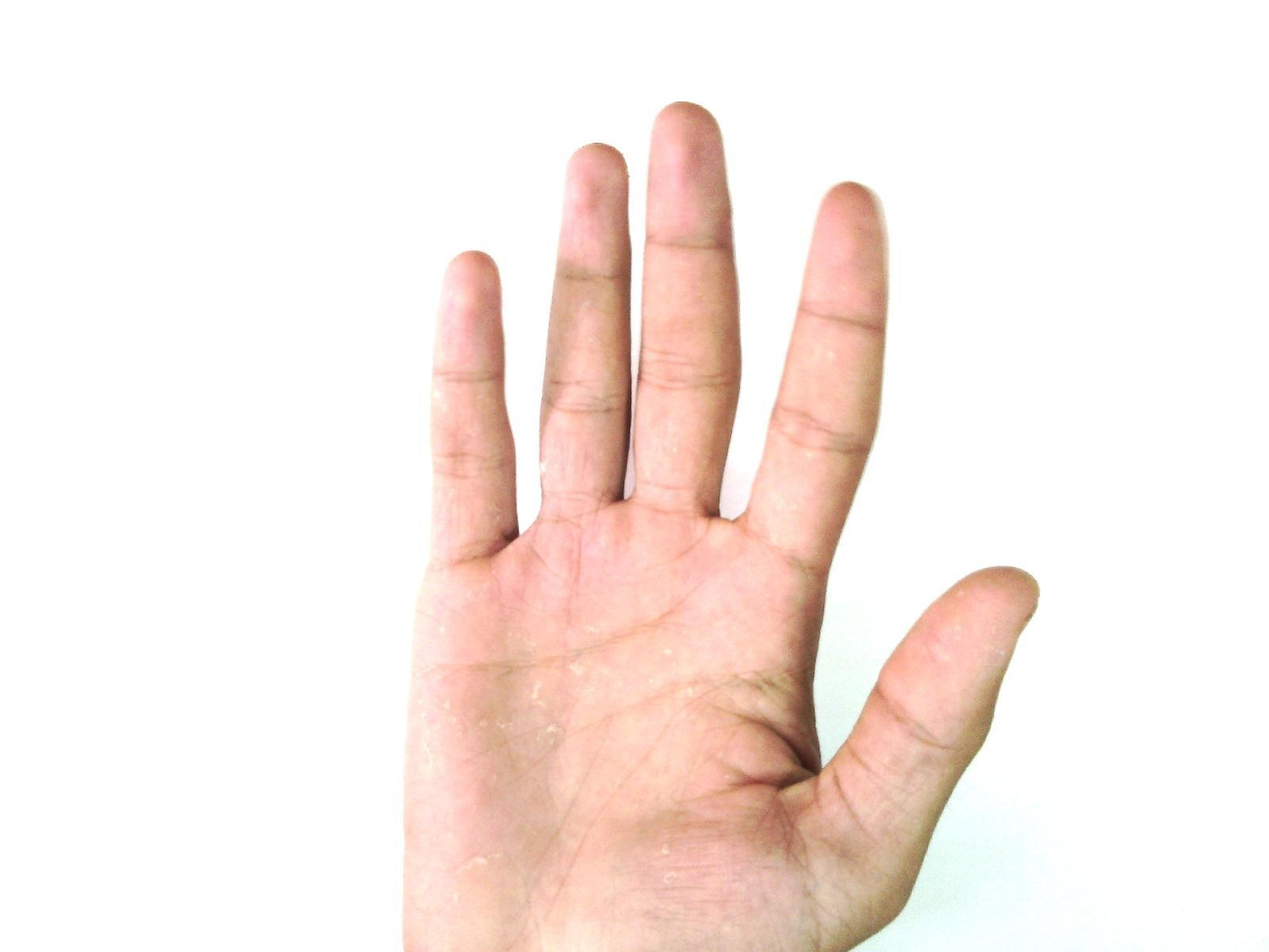open_palm: (397, 100, 1042, 952)
